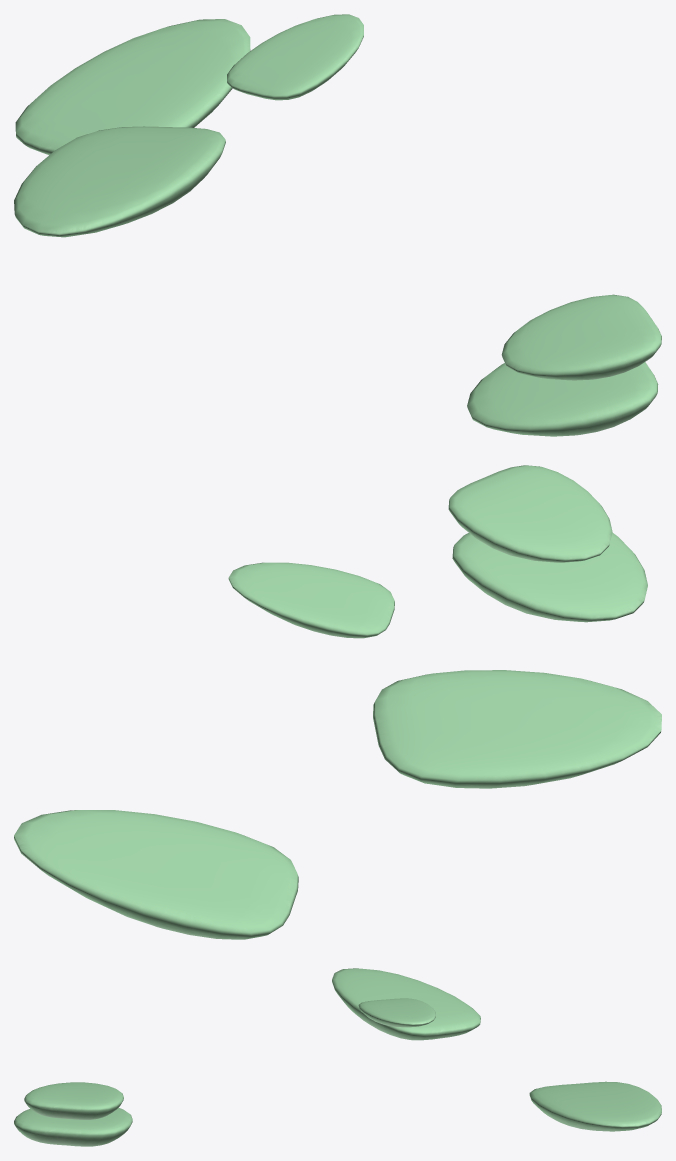
Rendered from CoralDisksGreen.fbx.
The picture shows the model from 3 angles, top to bottom: view 1: azimuth 30°, elevation 25°; view 2: azimuth 150°, elevation 25°; view 3: azimuth 270°, elevation 25°; orthographic projection. The views are drawn at different scales.
Parts seen in each view (by area): view 1: Object_14; view 2: Object_14; view 3: Object_14.
Boxes of the visible parts, left/top/right/bottom form: Object_14: left=14, top=14, right=661, bottom=436; Object_14: left=14, top=465, right=661, bottom=939; Object_14: left=14, top=968, right=661, bottom=1146.
Bounding box in the file's own units: 23104 × 10904 × 48344.
1 material, 1 textured.
